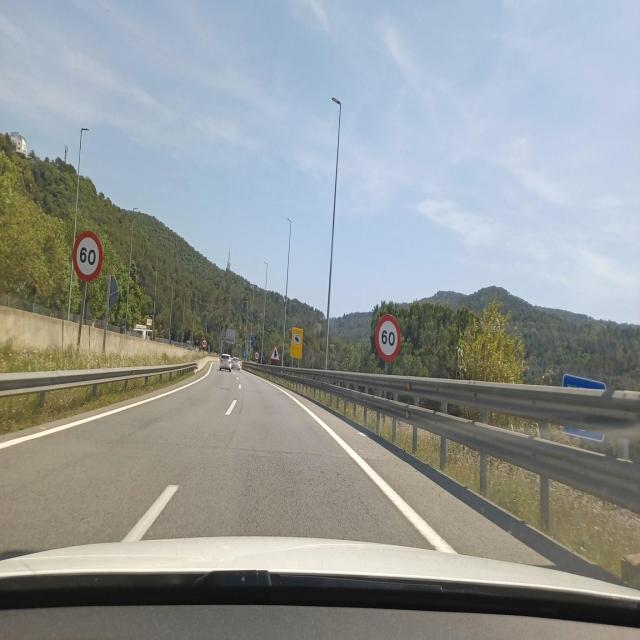car: (562, 374, 607, 394), (219, 352, 232, 372)
